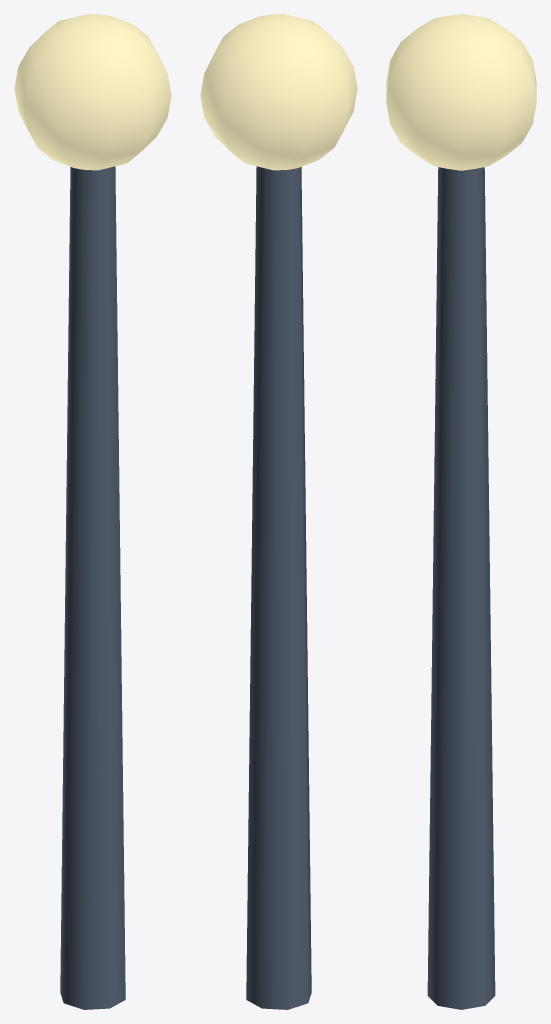
The model's file is street_lamp.glb.
3 renders of one model, left to right at view 1: azimuth 30°, elevation 25°; view 2: azimuth 150°, elevation 25°; view 3: azimuth 270°, elevation 25°, orthographic.
Parts seen in each view (by area): view 1: pole, globe; view 2: pole, globe; view 3: pole, globe.
Boxes of the visible parts, bbox=[...] form: pole: bbox=[60, 166, 125, 1009]; globe: bbox=[14, 14, 171, 170]; pole: bbox=[246, 166, 311, 1009]; globe: bbox=[200, 14, 357, 170]; pole: bbox=[427, 167, 495, 1009]; globe: bbox=[386, 14, 536, 170].
Size of the model in its own units: 0.84 by 5.72 by 0.7989.
